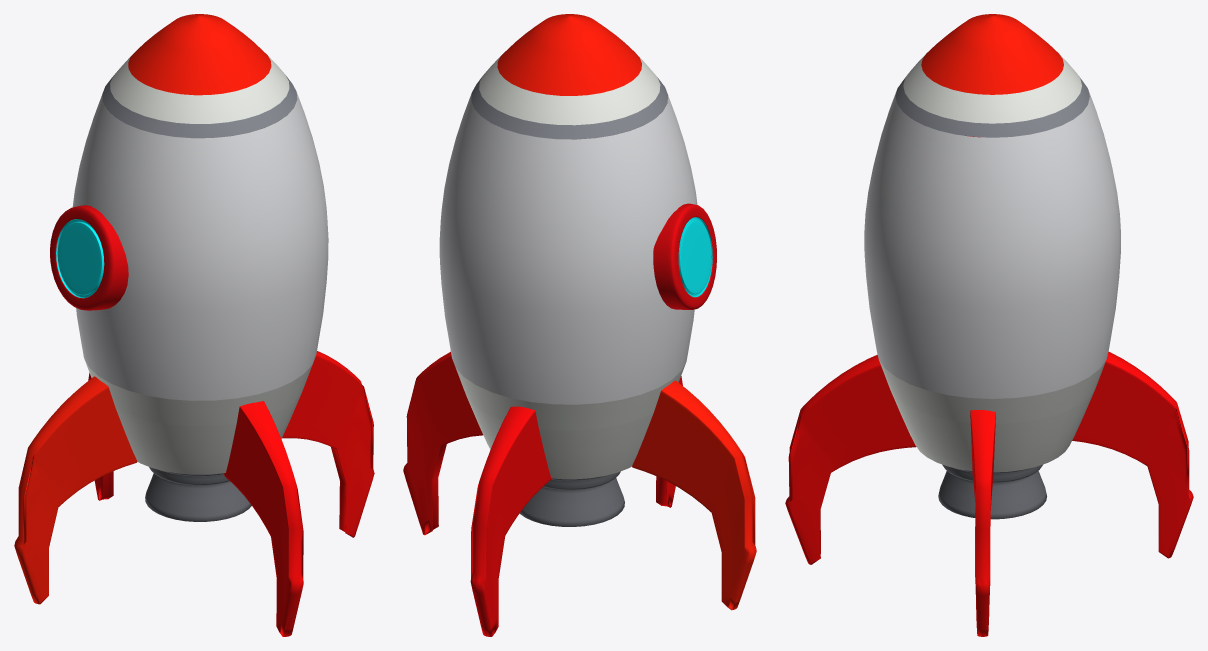
File: cohete2.gltf
3 renders of one model, left to right at view 1: azimuth 30°, elevation 25°; view 2: azimuth 150°, elevation 25°; view 3: azimuth 270°, elevation 25°, orthographic.
Visible parts, largest first — view 1: Circle_2, Circle.008_10, Circle.008_10.001, Circle.008_10.002, Cylinder_11; view 2: Circle_2, Circle.008_10, Circle.008_10.003, Circle.008_10.002, Cylinder_11, Circle.008_10.001; view 3: Circle_2, Circle.008_10.001, Circle.008_10.003, Circle.008_10.002.
Part boxes in pixels (x1,y1,x2,y2): Circle_2: [72, 14, 328, 521]; Circle.008_10: [14, 376, 137, 604]; Circle.008_10.001: [224, 401, 303, 636]; Circle.008_10.002: [282, 351, 374, 537]; Cylinder_11: [50, 205, 128, 310]; Circle_2: [439, 14, 697, 526]; Circle.008_10: [632, 380, 756, 610]; Circle.008_10.003: [470, 406, 552, 636]; Circle.008_10.002: [403, 351, 482, 535]; Cylinder_11: [653, 203, 716, 309]; Circle.008_10.001: [656, 376, 682, 507]; Circle_2: [864, 14, 1120, 519]; Circle.008_10.001: [785, 354, 916, 564]; Circle.008_10.003: [1072, 351, 1193, 558]; Circle.008_10.002: [970, 410, 995, 636].
Size of the model in its own units: 1.25 by 1.87 by 1.26.
